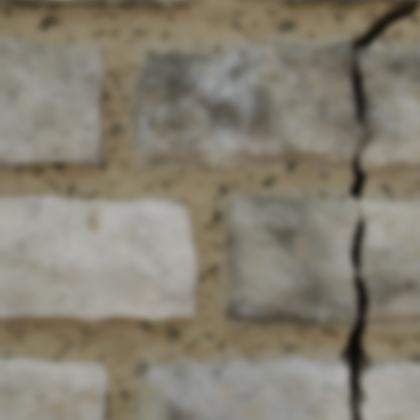brick: (0, 196, 197, 320), (0, 39, 104, 166), (0, 358, 107, 419), (0, 0, 192, 7), (287, 0, 324, 3), (340, 0, 368, 3), (391, 0, 413, 2)
broken_brick: (133, 40, 362, 169), (226, 195, 358, 325), (137, 356, 349, 419), (357, 46, 419, 171), (359, 198, 419, 322), (362, 361, 419, 419)
crack: (339, 0, 419, 419)
